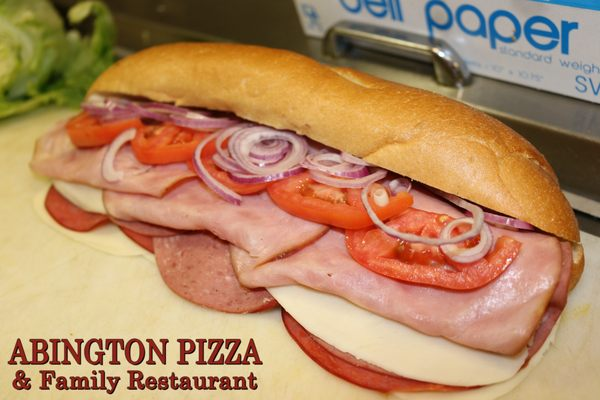soup: (47, 42, 595, 371), (0, 0, 119, 120)
